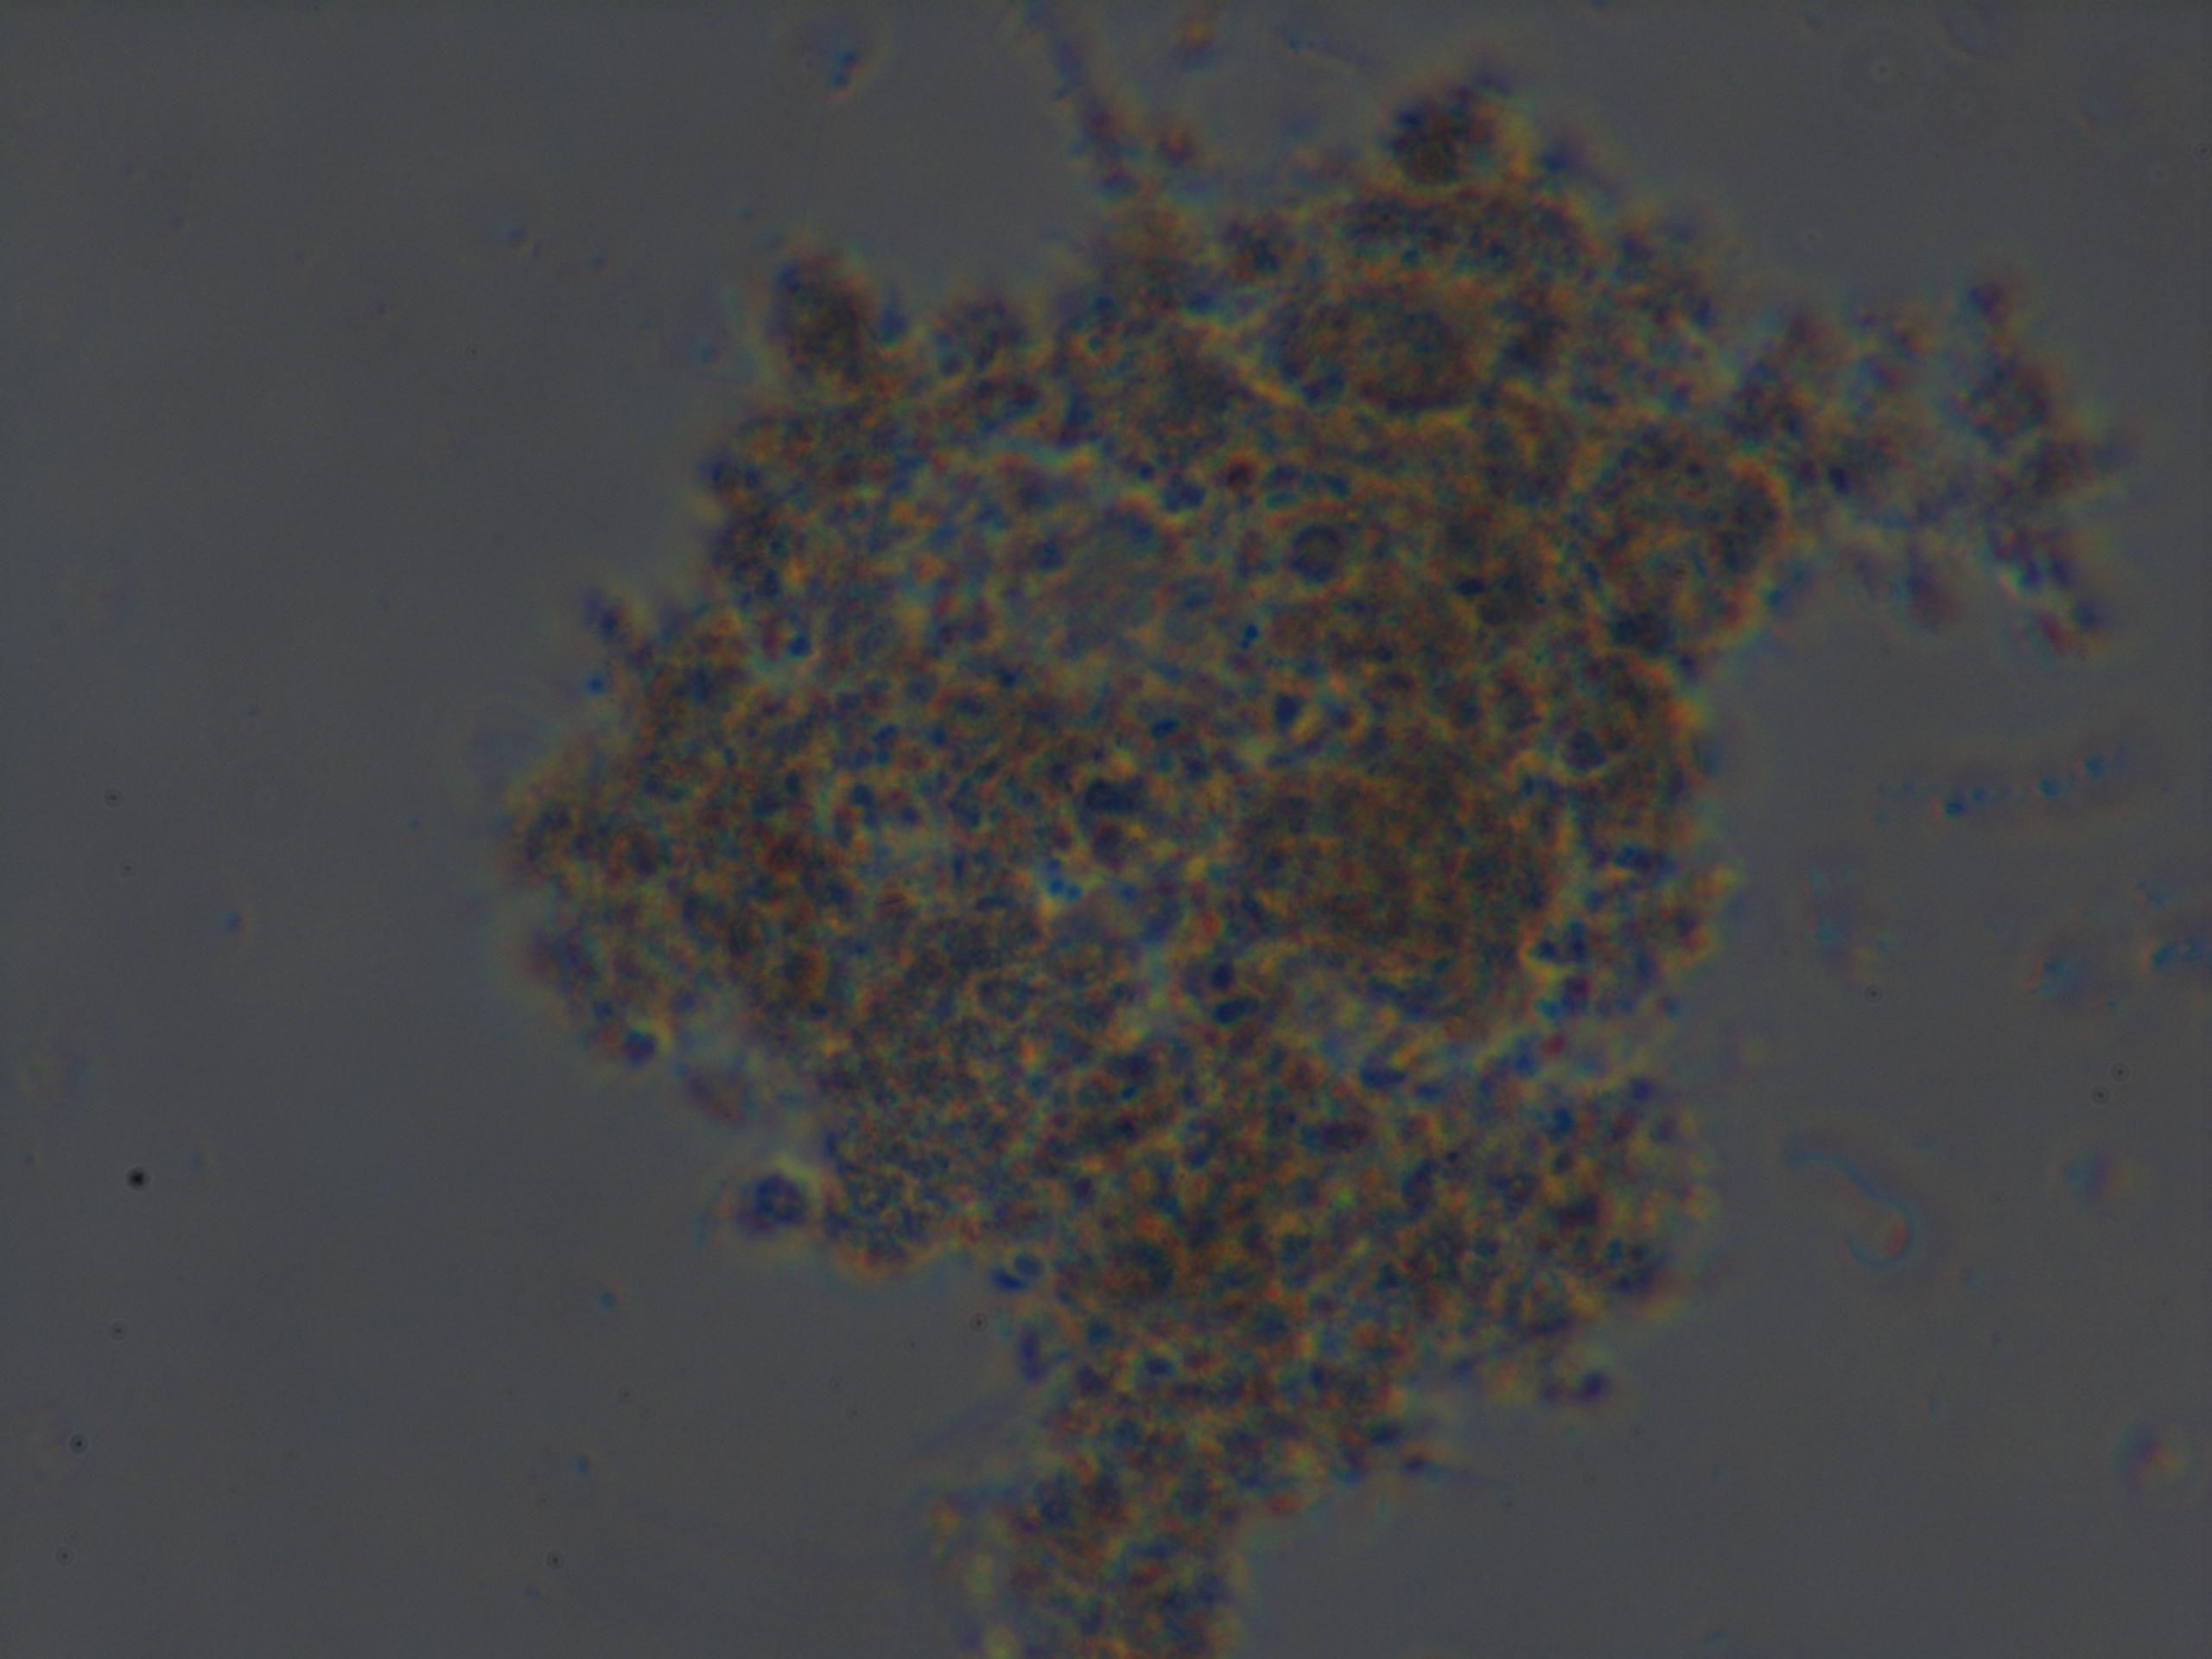spherical_floc: (489, 66, 1850, 1659)
